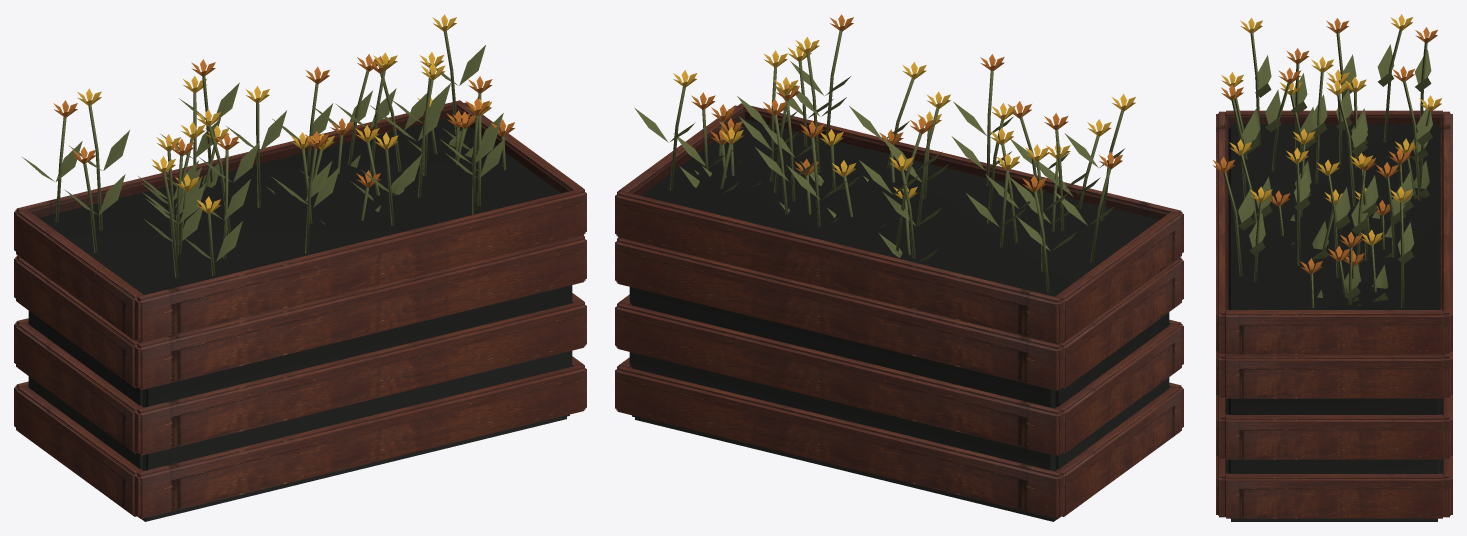
The model's file is florists-trug.glb.
3 views of the same model, side by side, from view 1: azimuth 30°, elevation 25°; view 2: azimuth 150°, elevation 25°; view 3: azimuth 270°, elevation 25° (orthographic). The views are drawn at different scales.
Parts seen in each view (by area): view 1: Frame; view 2: Frame; view 3: Frame.
Part boxes in pixels (box(x1,y1,x2,y2)): Frame: box(14, 14, 586, 521); Frame: box(615, 14, 1183, 521); Frame: box(1213, 14, 1452, 521).
Bounding box in the file's own units: 1.06 × 0.7784 × 0.5186.
Materials: 5 (1 with a texture image).
